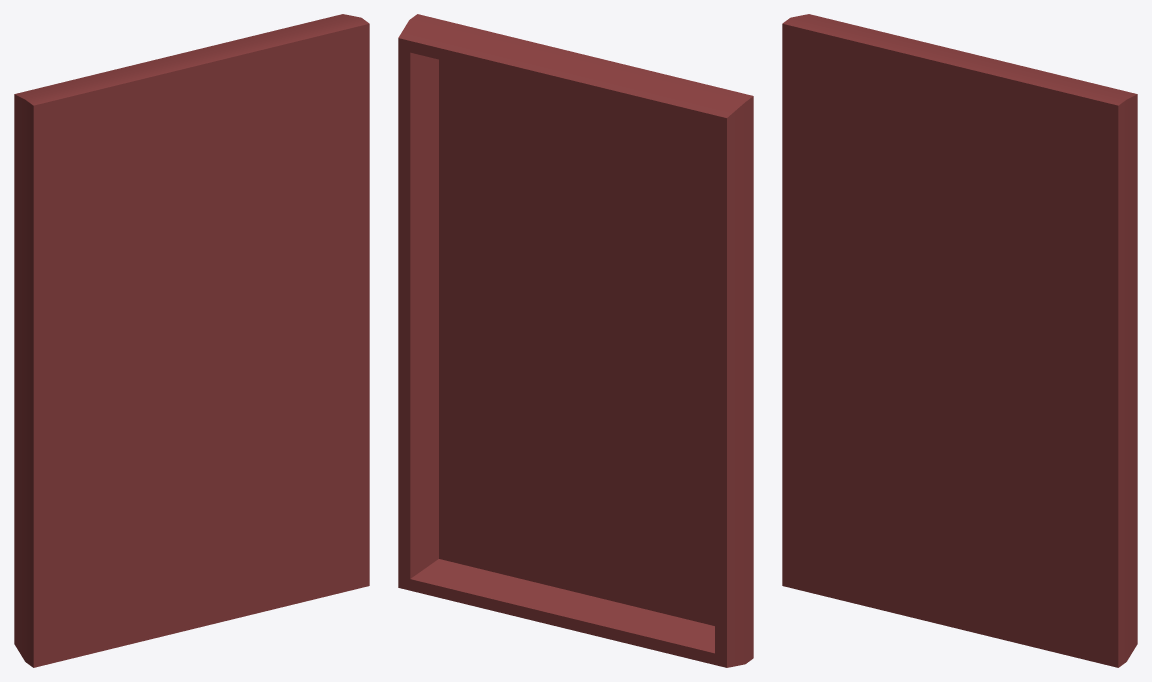
Rendered from Frame0.fbx.
3 renders of one model, left to right at view 1: azimuth 30°, elevation 25°; view 2: azimuth 150°, elevation 25°; view 3: azimuth 330°, elevation 25°, orthographic.
Parts seen in each view (by area): view 1: Frame0; view 2: Frame0; view 3: Frame0.
Part boxes in pixels (x1,y1,x2,y2): Frame0: (14,14,369,667); Frame0: (398,14,753,667); Frame0: (782,14,1137,667).
Bounding box in the file's own units: 2.59 × 4.13 × 0.3068.
